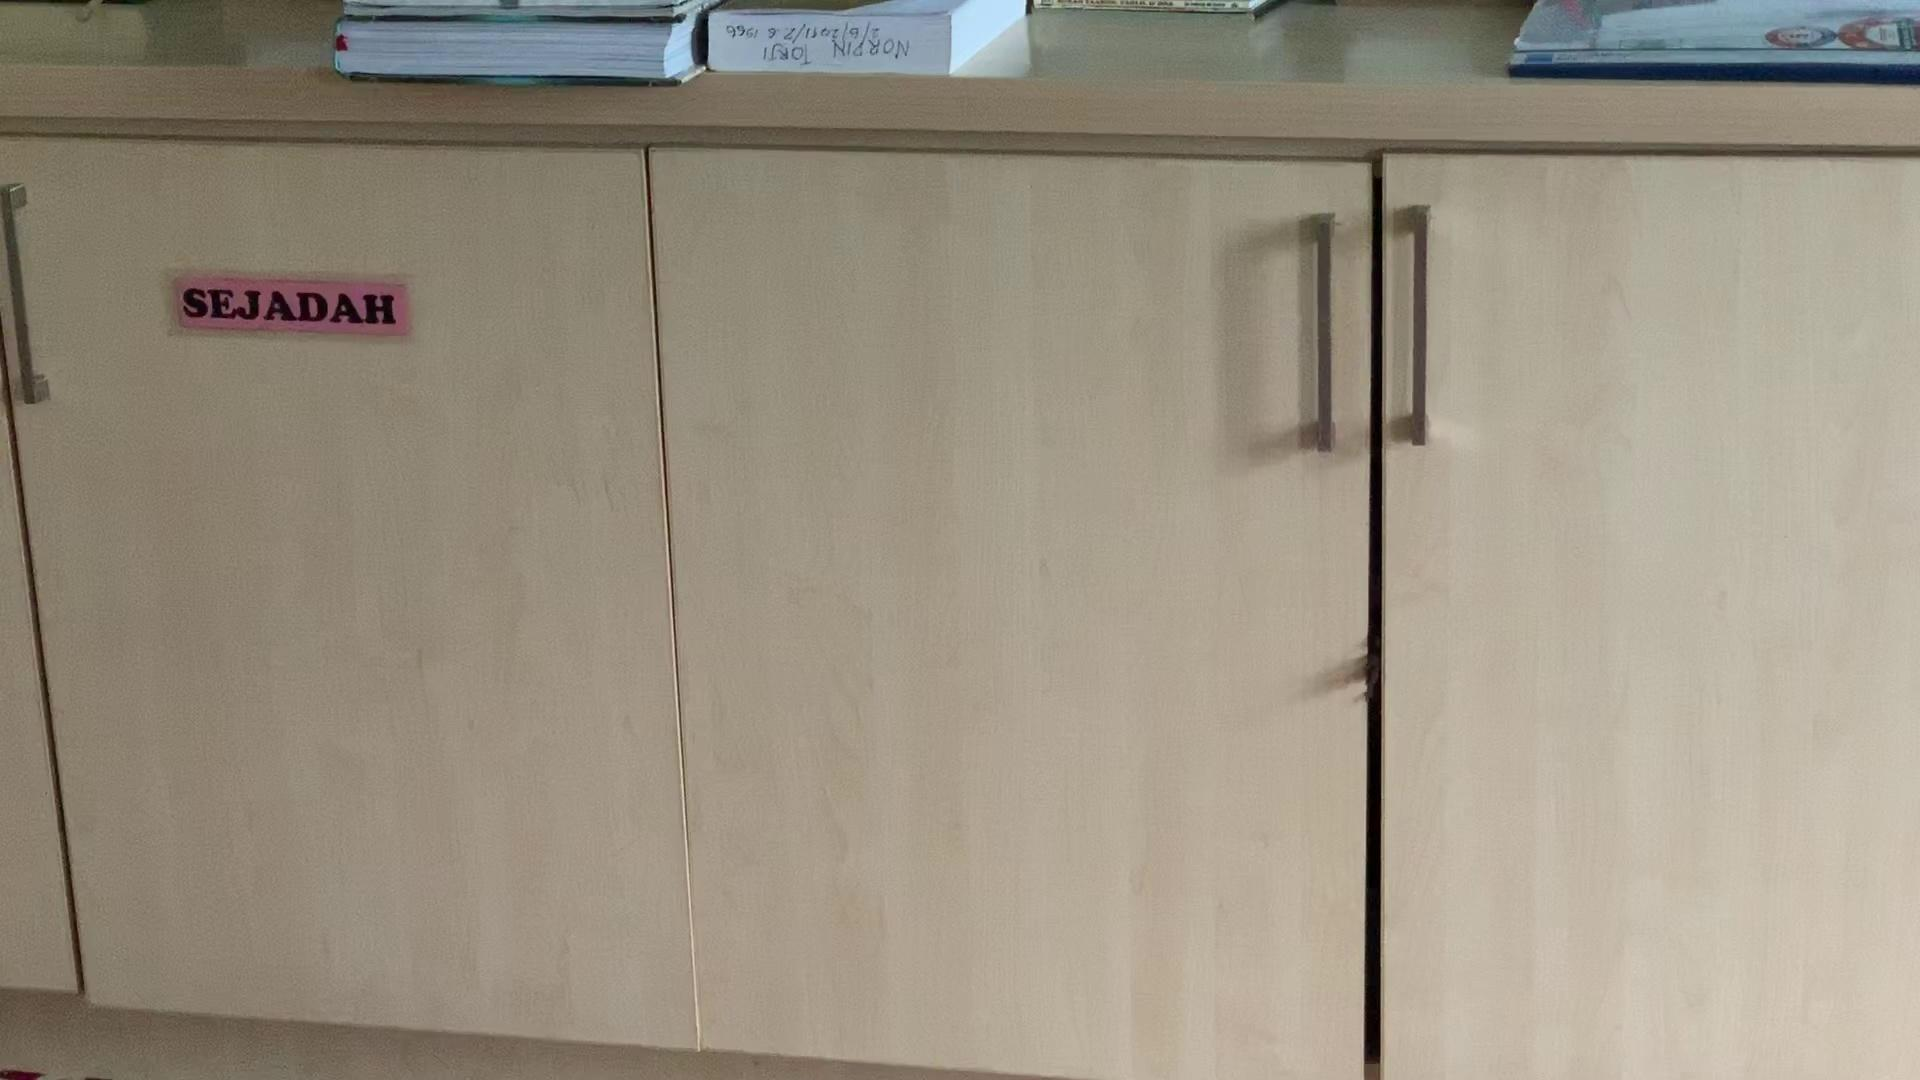cabinet_door: (671, 167, 1369, 1080), (25, 152, 667, 1019), (1389, 169, 1920, 1080)
handle: (0, 173, 55, 413), (1302, 211, 1350, 460), (1398, 202, 1441, 454)
